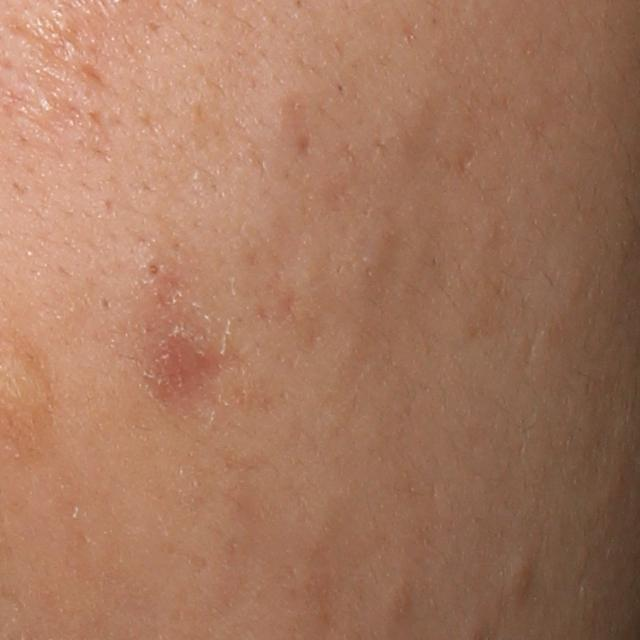comedo: (383, 574, 415, 625), (131, 246, 171, 286), (507, 557, 533, 601)
